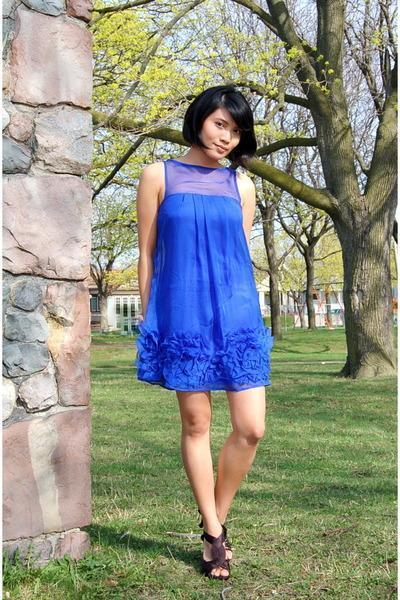dress: (135, 158, 273, 390)
shoe: (204, 530, 235, 581)
